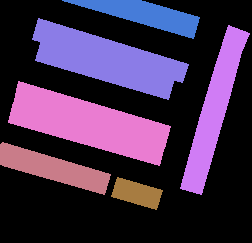parkingspot: (180, 25, 249, 194), (13, 81, 170, 148), (32, 18, 188, 82), (8, 102, 164, 165), (35, 40, 174, 99), (0, 142, 110, 194), (62, 0, 199, 38), (111, 177, 162, 209)
